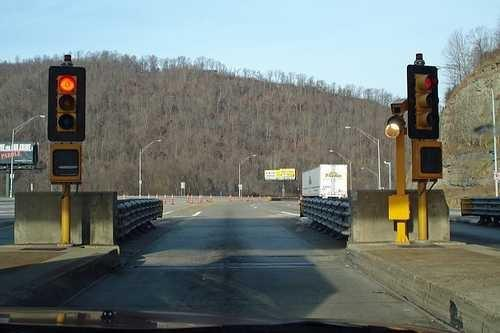red: (55, 70, 80, 135), (416, 74, 439, 130), (57, 73, 77, 96)
